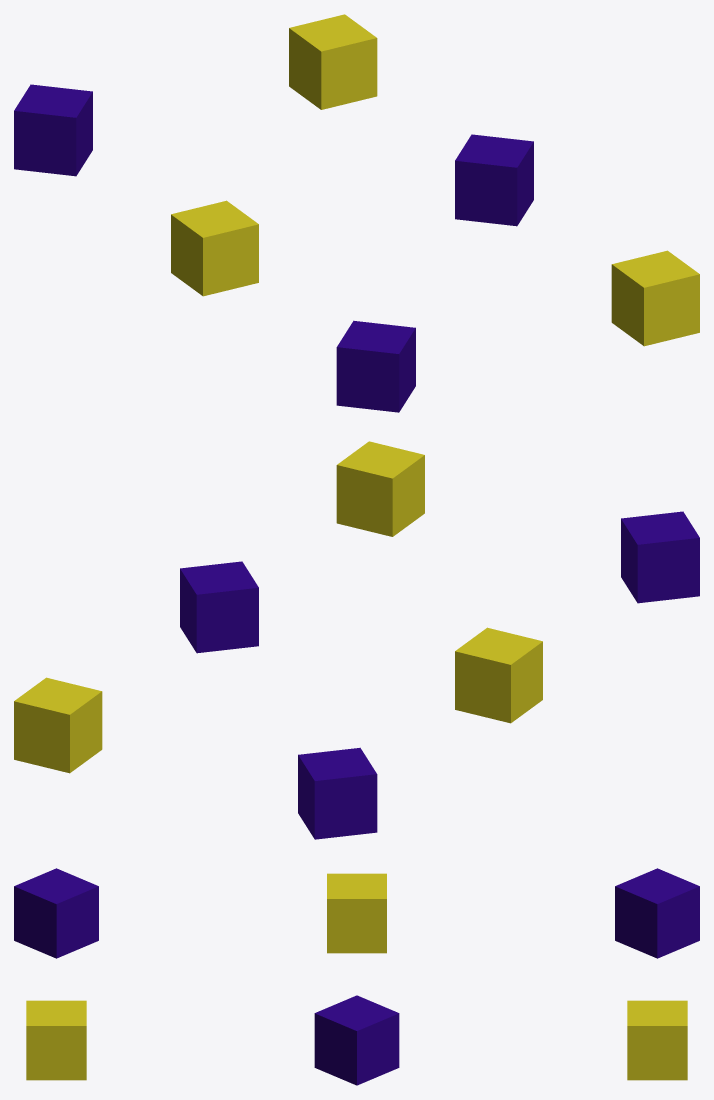
The model's file is framing_03.glb.
3 renders of one model, top to bottom at view 1: azimuth 30°, elevation 25°; view 2: azimuth 150°, elevation 25°; view 3: azimuth 270°, elevation 25°, orthographic. The views are drawn at different scales.
Visible parts, largest first — view 1: GEO.Cubes.002; view 2: GEO.Cubes.002; view 3: GEO.Cubes.002.
Boxes of the visible parts, x1=… form: GEO.Cubes.002: x1=14, y1=14, x2=699, y2=412; GEO.Cubes.002: x1=14, y1=441, x2=699, y2=839; GEO.Cubes.002: x1=14, y1=868, x2=699, y2=1085.
Size of what is drawn, in the model's own units: 1.28 by 0.2 by 2.28.
